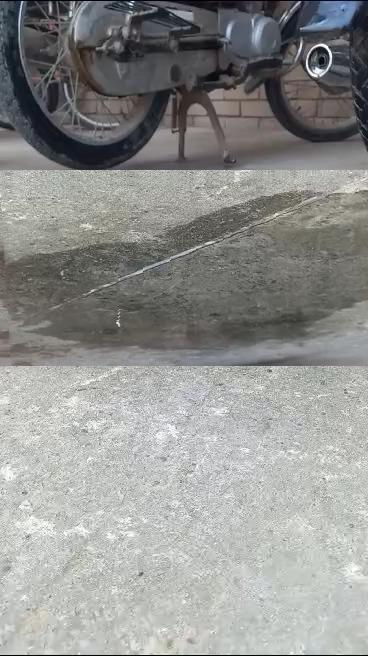water accumulation: (0, 189, 368, 351)
